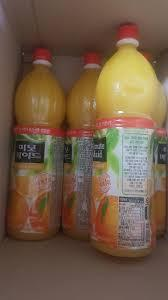minutemaid_org_orange: (87, 20, 163, 264), (3, 45, 64, 244)
